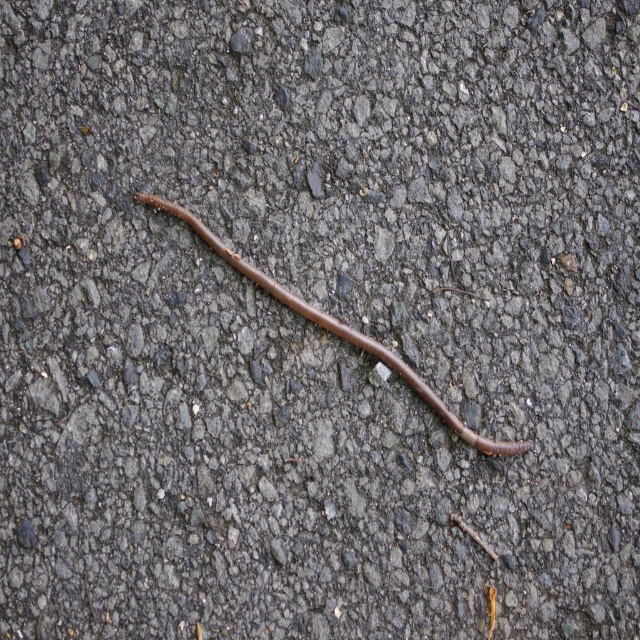Snake: (133, 191, 534, 457)
